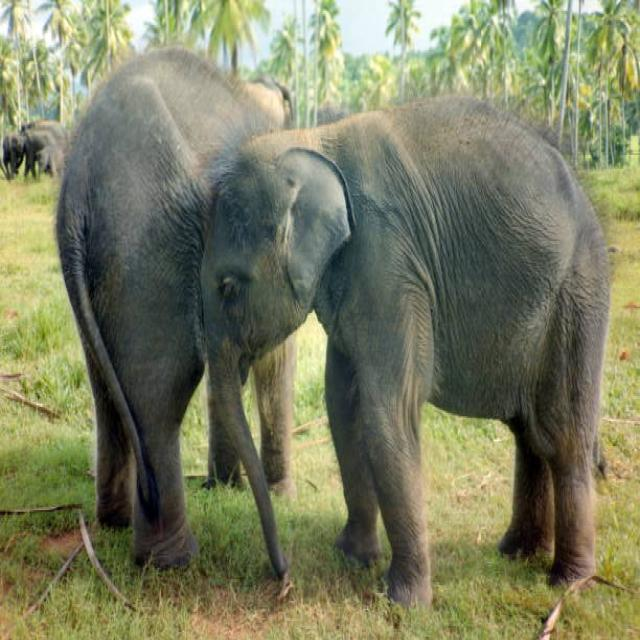Elephant: (201, 101, 604, 620), (66, 46, 304, 573)
